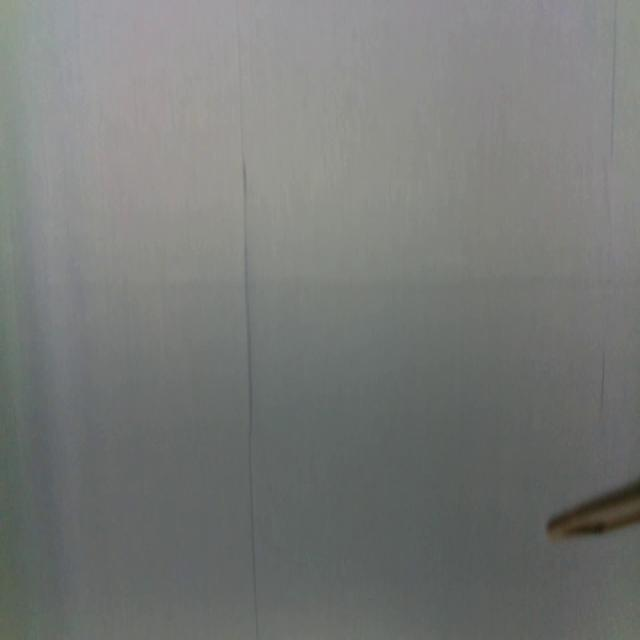crease: (234, 0, 260, 640), (609, 0, 621, 160), (599, 349, 608, 412)
